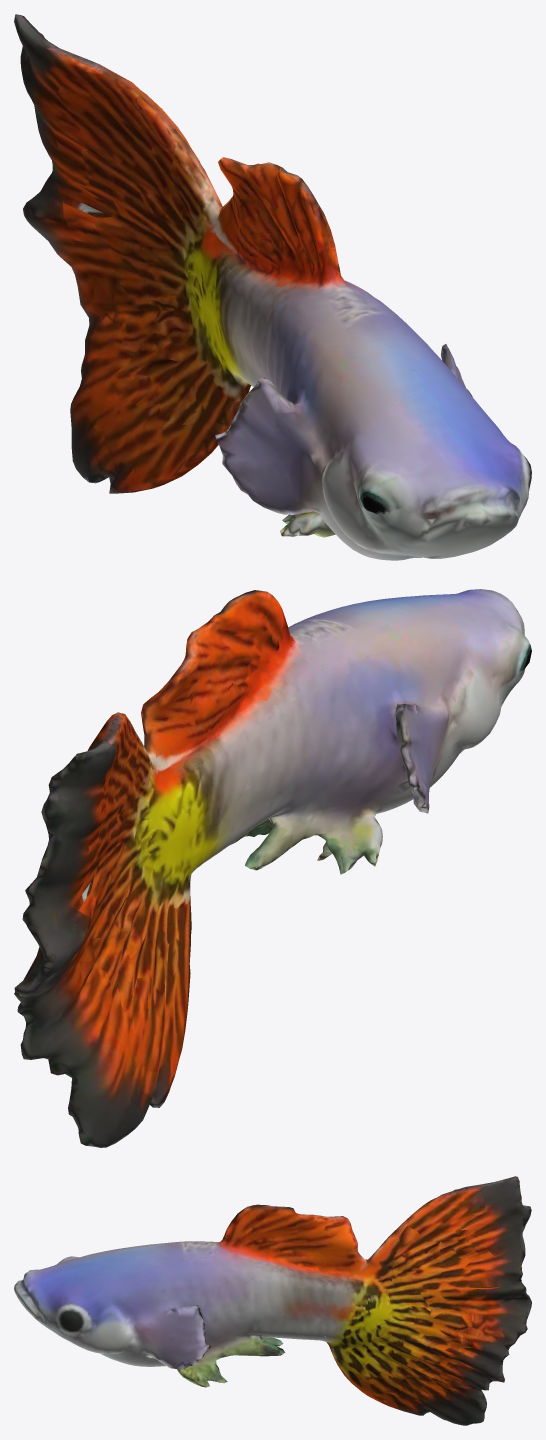
File: strain-japan_red_mosaic.glb
3 renders of one model, top to bottom at view 1: azimuth 30°, elevation 25°; view 2: azimuth 150°, elevation 25°; view 3: azimuth 270°, elevation 25°, orthographic. The views are drawn at different scales.
Visible parts, largest first — view 1: Mesh_0.001; view 2: Mesh_0.001; view 3: Mesh_0.001.
Boxes of the visible parts, x1,y1,x2,y2 form: Mesh_0.001: [14, 14, 531, 560]; Mesh_0.001: [14, 589, 531, 1147]; Mesh_0.001: [14, 1176, 531, 1425].
Bounding box in the file's own units: 0.0114 × 0.019 × 0.0367.
Materials: 2 (2 with a texture image).
